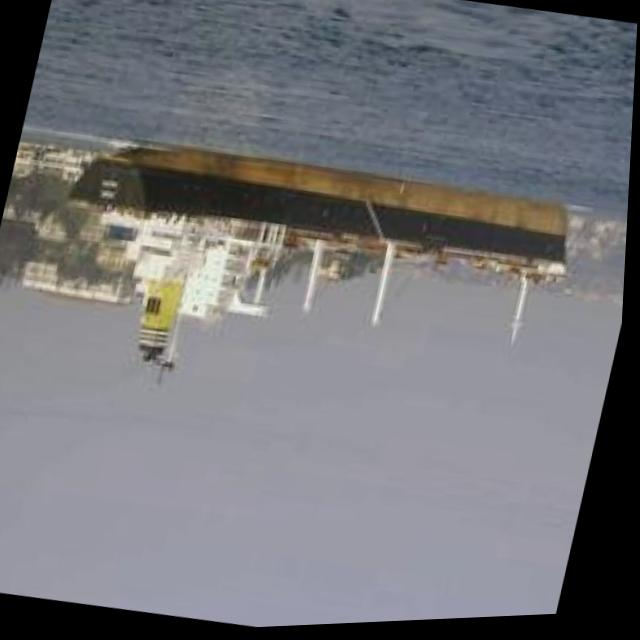ship2: (72, 148, 572, 387)
